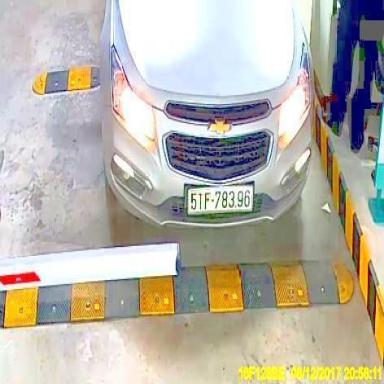License_Plate: (186, 184, 255, 215)
